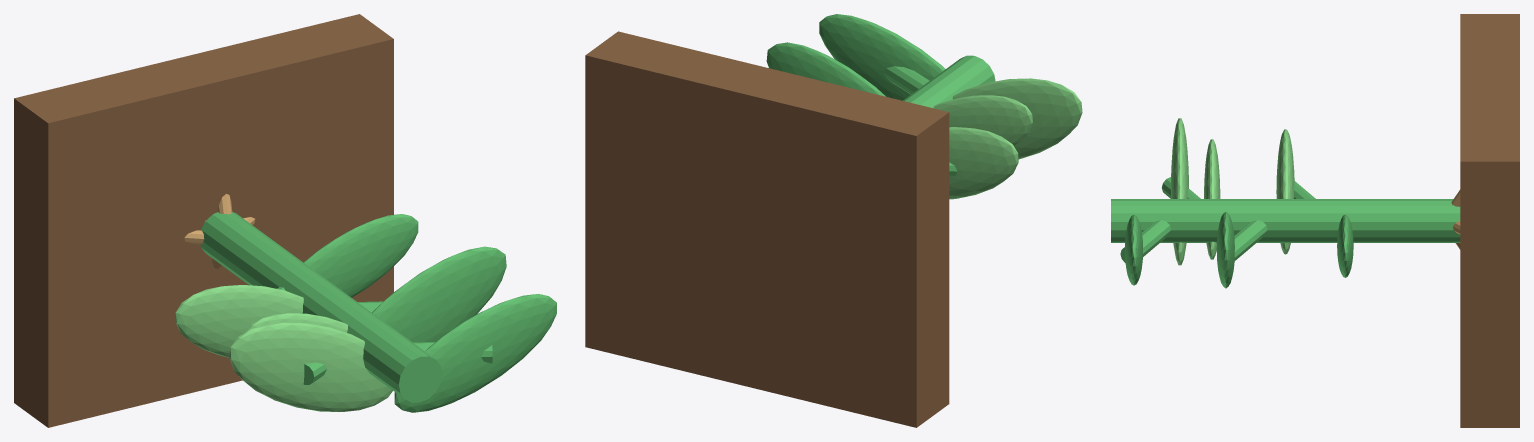
File: tanaman_fotosintesis_3d (1).glb
The picture shows the model from 3 angles, left to right: view 1: azimuth 30°, elevation 25°; view 2: azimuth 150°, elevation 25°; view 3: azimuth 270°, elevation 25°; orthographic projection. The views are drawn at different scales.
Parts seen in each view (by area): view 1: Tanah, Batang, Daun_2, Daun_3, Daun_1, Daun_4, Daun_5, Daun_6; view 2: Tanah, Daun_3, Daun_2, Daun_4, Daun_6, Daun_1, Batang, Cabang_2; view 3: Tanah, Batang, Daun_2, Daun_4, Daun_1, Daun_3, Daun_6, Daun_5, Cabang, Cabang_2.
Part boxes in pixels (x1,y1,x2,y2): Tanah: (14, 14, 393, 427); Batang: (200, 212, 442, 402); Daun_2: (229, 322, 392, 411); Daun_3: (394, 294, 556, 412); Daun_1: (372, 246, 506, 342); Daun_4: (175, 285, 303, 357); Daun_5: (303, 214, 418, 297); Daun_6: (246, 313, 347, 332); Tanah: (585, 31, 949, 427); Daun_3: (819, 14, 945, 100); Daun_2: (952, 78, 1082, 159); Daun_4: (949, 127, 1018, 199); Daun_6: (933, 95, 1032, 146); Daun_1: (766, 42, 885, 96); Batang: (903, 55, 995, 108); Cabang_2: (883, 66, 929, 94); Tanah: (1460, 14, 1519, 427); Batang: (1111, 199, 1460, 242); Daun_2: (1171, 118, 1188, 265); Daun_4: (1276, 129, 1294, 254); Daun_1: (1216, 212, 1234, 288); Daun_3: (1125, 214, 1142, 285); Daun_6: (1204, 139, 1220, 259); Daun_5: (1337, 214, 1353, 277); Cabang: (1234, 220, 1267, 261); Cabang_2: (1120, 220, 1170, 262).
Bounding box in the file's own units: 3.8 × 3.2 × 4.45.
